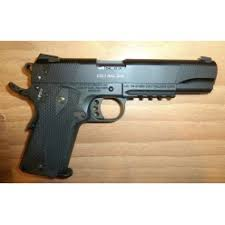Arma Real: (8, 52, 222, 181)
